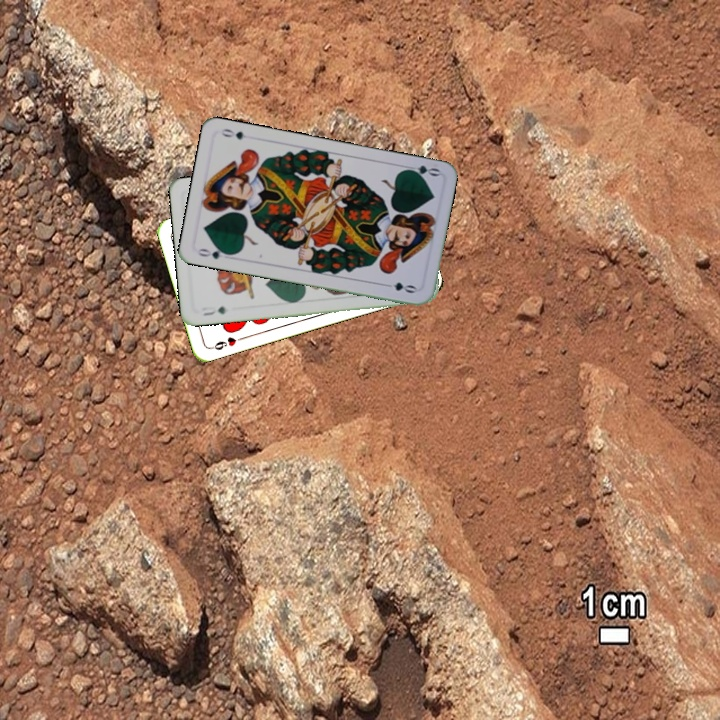GO: (401, 161, 442, 180), (194, 244, 234, 262)
GU: (199, 302, 229, 318)
H9: (207, 333, 246, 353)
